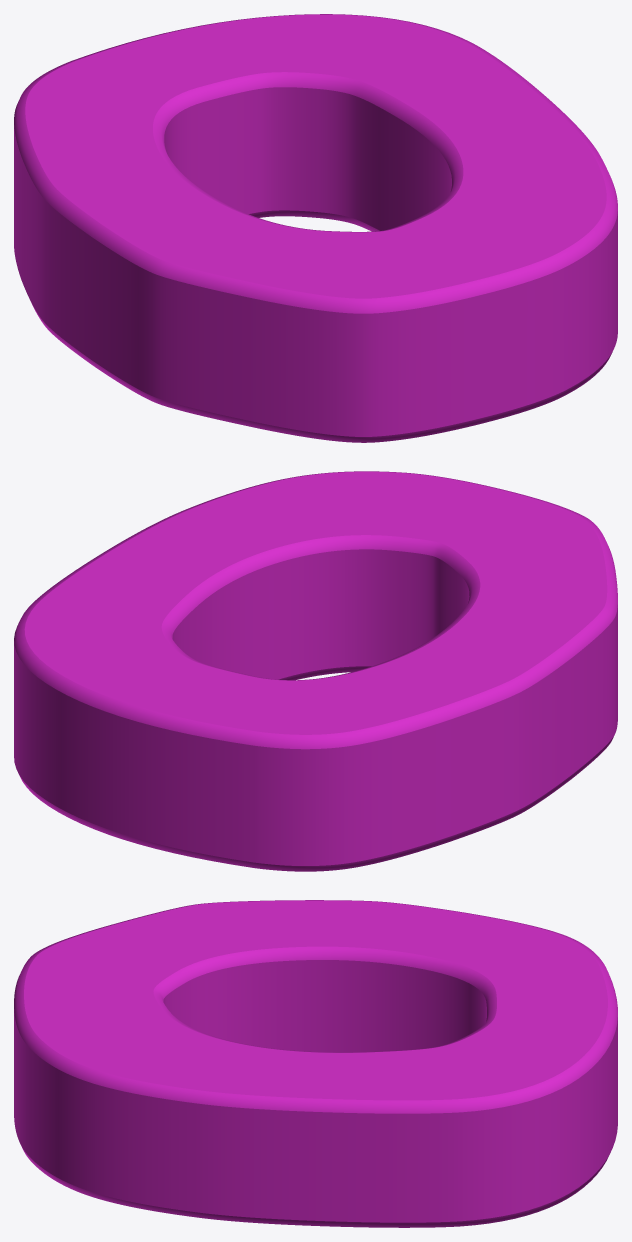
File: Bubble_LetterO.fbx
The picture shows the model from 3 angles, top to bottom: view 1: azimuth 30°, elevation 25°; view 2: azimuth 150°, elevation 25°; view 3: azimuth 270°, elevation 25°; orthographic projection. The views are drawn at different scales.
Parts seen in each view (by area): view 1: BubbleLetter_O; view 2: BubbleLetter_O; view 3: BubbleLetter_O.
Part boxes in pixels (bbox=[...]): BubbleLetter_O: bbox=[14, 14, 617, 442]; BubbleLetter_O: bbox=[14, 471, 617, 871]; BubbleLetter_O: bbox=[14, 900, 617, 1227].
Size of the model in its own units: 0.4925 by 0.14 by 0.6031.
